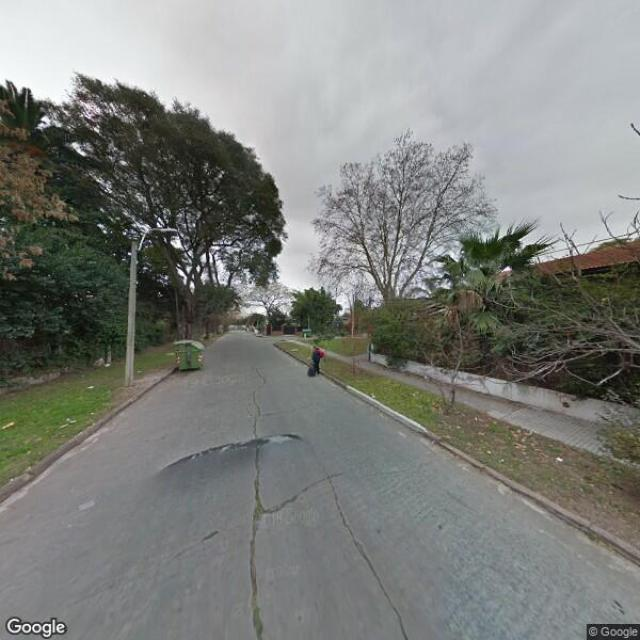garbage container: (161, 333, 212, 383)
